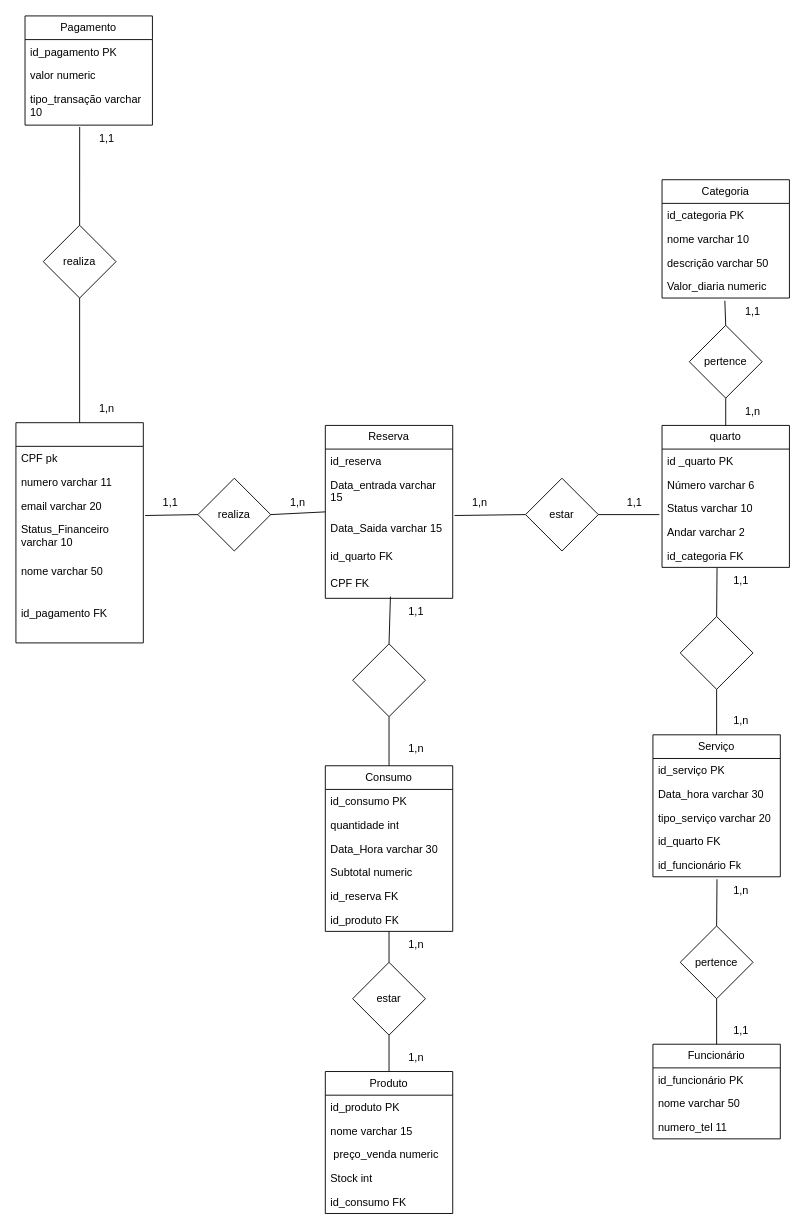
Some shapes in this 805 by 1232 pixel diagram are drawn without their labels. The shapes that lost their labels are listed below. From the top down, each one's box as (x1, y1, x2, y2) in pixels, then its label:
(15, 422, 143, 643): Cliente
(679, 616, 753, 689): realizar
(352, 643, 425, 717): ter
